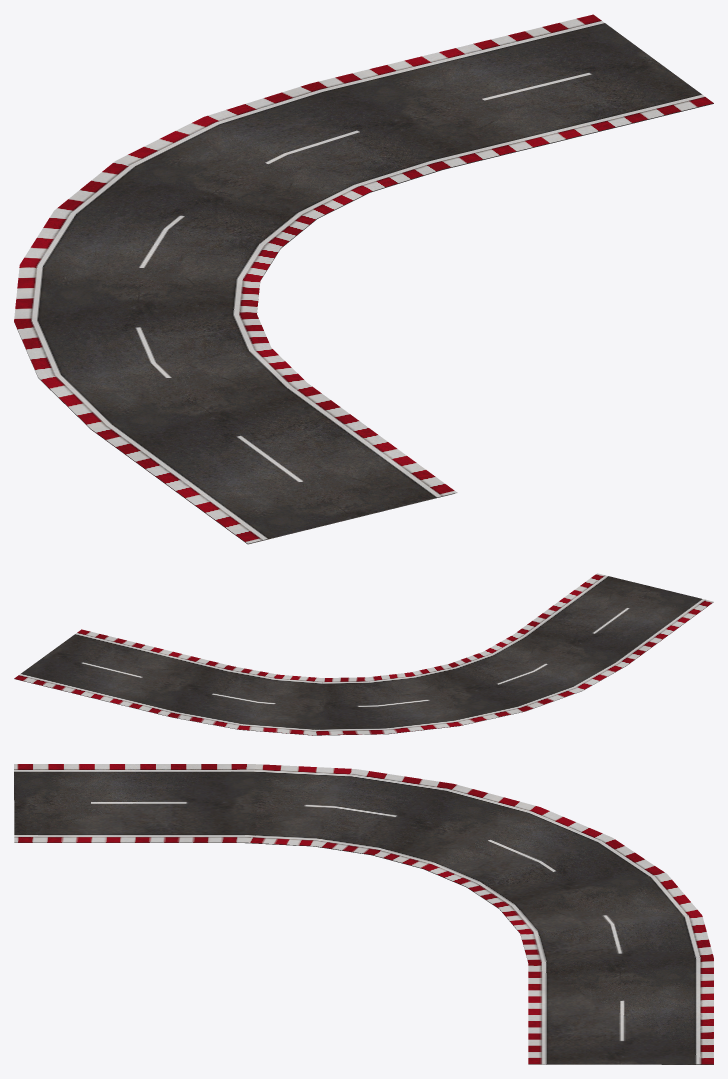
File: road_D.FBX
The picture shows the model from 3 angles, top to bottom: view 1: azimuth 30°, elevation 25°; view 2: azimuth 150°, elevation 25°; view 3: azimuth 270°, elevation 25°; orthographic projection. The views are drawn at different scales.
Parts seen in each view (by area): view 1: road_D; view 2: road_D; view 3: road_D.
Part boxes in pixels (x1=…): road_D: x1=14, y1=14, x2=713, y2=544; road_D: x1=14, y1=573, x2=713, y2=735; road_D: x1=14, y1=764, x2=713, y2=1064.
Bounding box in the file's own units: 2409 × 1.97 × 2374.
